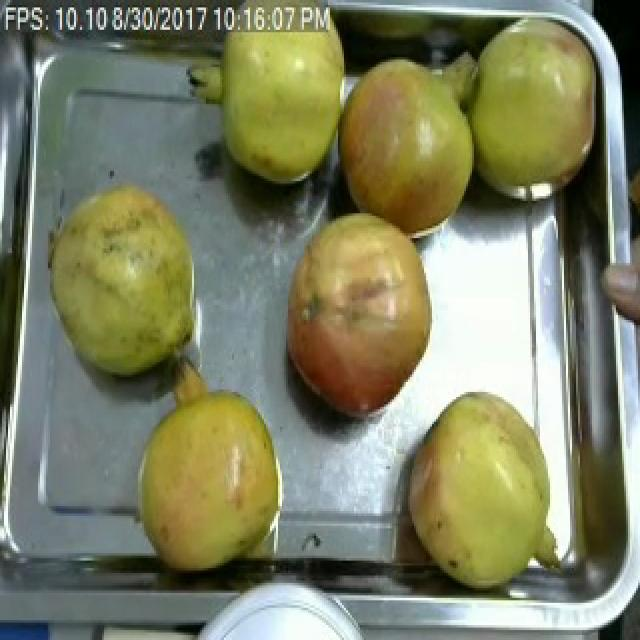fruit: (274, 196, 446, 437), (38, 159, 210, 392), (168, 0, 358, 198), (396, 377, 562, 598), (124, 367, 294, 581), (330, 42, 484, 248), (460, 5, 612, 213)
